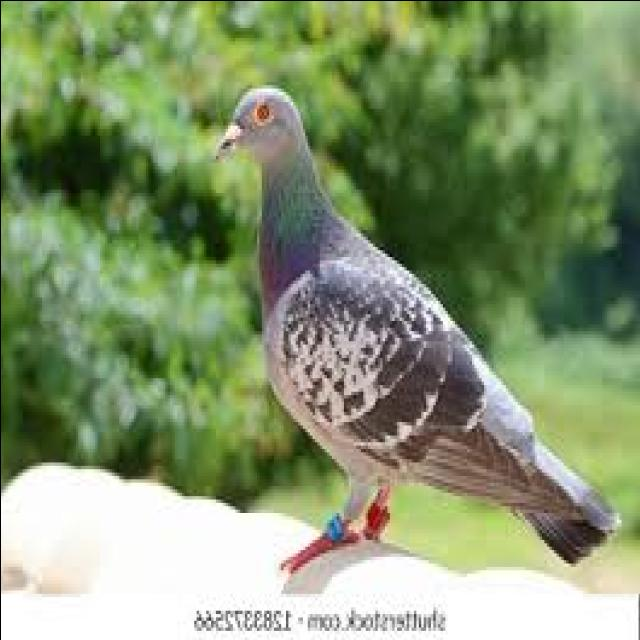pigeon: (214, 69, 616, 570)
